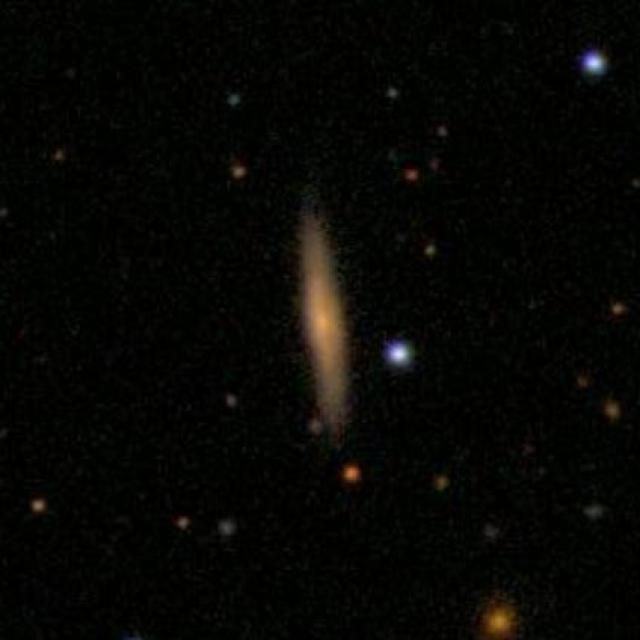galaxy: (289, 190, 350, 440), (478, 595, 522, 640), (384, 340, 422, 374), (581, 49, 611, 80), (223, 156, 249, 186), (582, 497, 608, 526), (603, 397, 626, 425), (218, 519, 241, 541), (341, 464, 365, 485), (434, 471, 452, 496), (608, 300, 628, 322), (172, 512, 195, 531), (224, 88, 244, 109), (29, 494, 49, 515), (403, 165, 421, 185), (49, 145, 66, 165), (386, 83, 403, 103), (423, 240, 441, 258), (577, 372, 593, 392), (309, 418, 321, 437), (227, 391, 239, 410), (436, 125, 449, 141)
